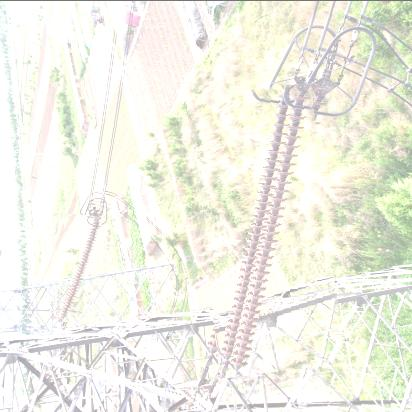insulator: (196, 86, 338, 376), (59, 215, 100, 324)
